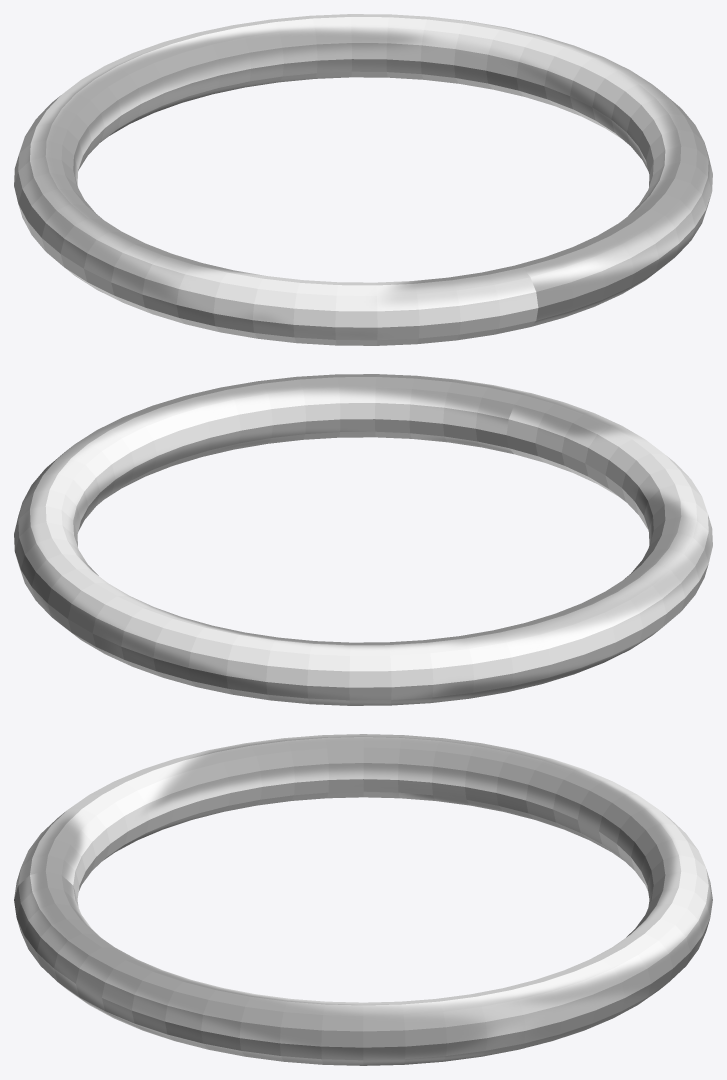
File: BhimaEffect.obj
3 renders of one model, top to bottom at view 1: azimuth 30°, elevation 25°; view 2: azimuth 150°, elevation 25°; view 3: azimuth 270°, elevation 25°, orthographic.
Parts seen in each view (by area): view 1: トーラス.001; view 2: トーラス.001; view 3: トーラス.001.
Part boxes in pixels (left/top/right/bottom): トーラス.001: left=14, top=14, right=712, bottom=345; トーラス.001: left=14, top=374, right=712, bottom=705; トーラス.001: left=14, top=734, right=712, bottom=1065.
Bounding box in the file's own units: 7.29 × 0.6626 × 7.29.
1 material, 1 textured.
